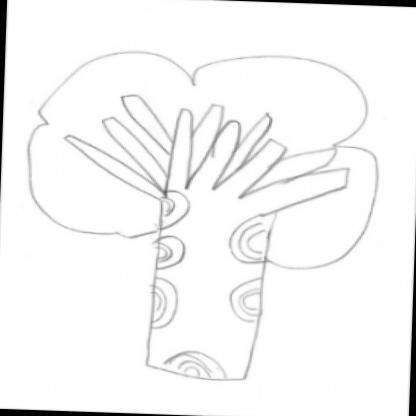branch_cut: (62, 91, 352, 211)
crown_cloud: (24, 48, 382, 272)
knot: (226, 213, 272, 265), (160, 348, 228, 382), (148, 277, 179, 332), (226, 277, 262, 324), (159, 190, 191, 231), (155, 233, 188, 270)
trunk_straight: (145, 260, 266, 362)
